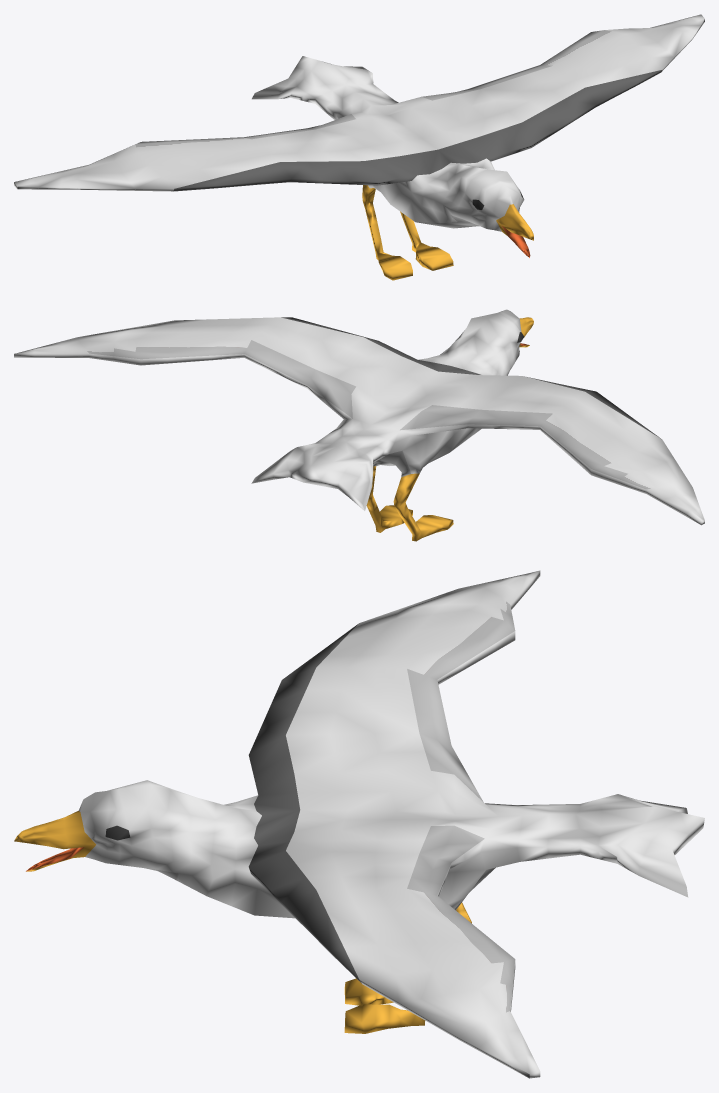
File: seagull.glb
The picture shows the model from 3 angles, top to bottom: view 1: azimuth 30°, elevation 25°; view 2: azimuth 150°, elevation 25°; view 3: azimuth 270°, elevation 25°; orthographic projection. The views are drawn at different scales.
Parts seen in each view (by area): view 1: Object_5; view 2: Object_5; view 3: Object_5.
Boxes of the visible parts, x1,y1,x2,y2 form: Object_5: (14, 14, 704, 280); Object_5: (14, 309, 704, 541); Object_5: (14, 570, 704, 1078).
Size of the model in its own units: 3.32 by 0.7191 by 1.93.
1 material, 1 textured.
